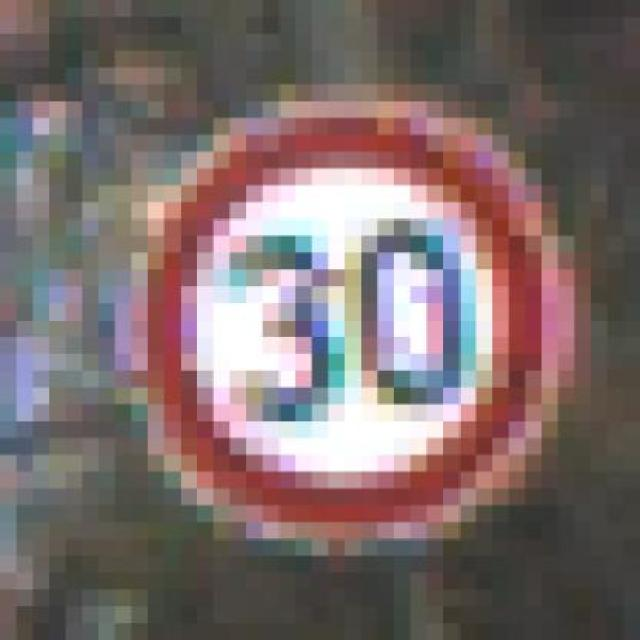Speed Limit 30 KMPh: (82, 84, 575, 573)
